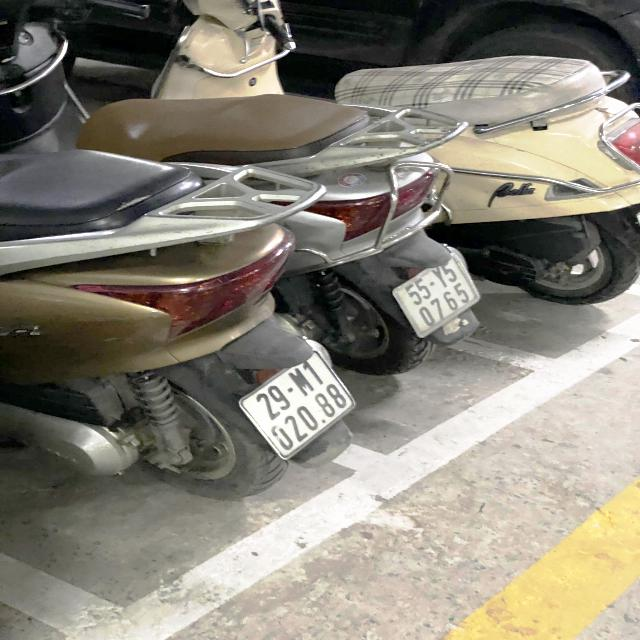license_plate: (232, 345, 369, 471)
